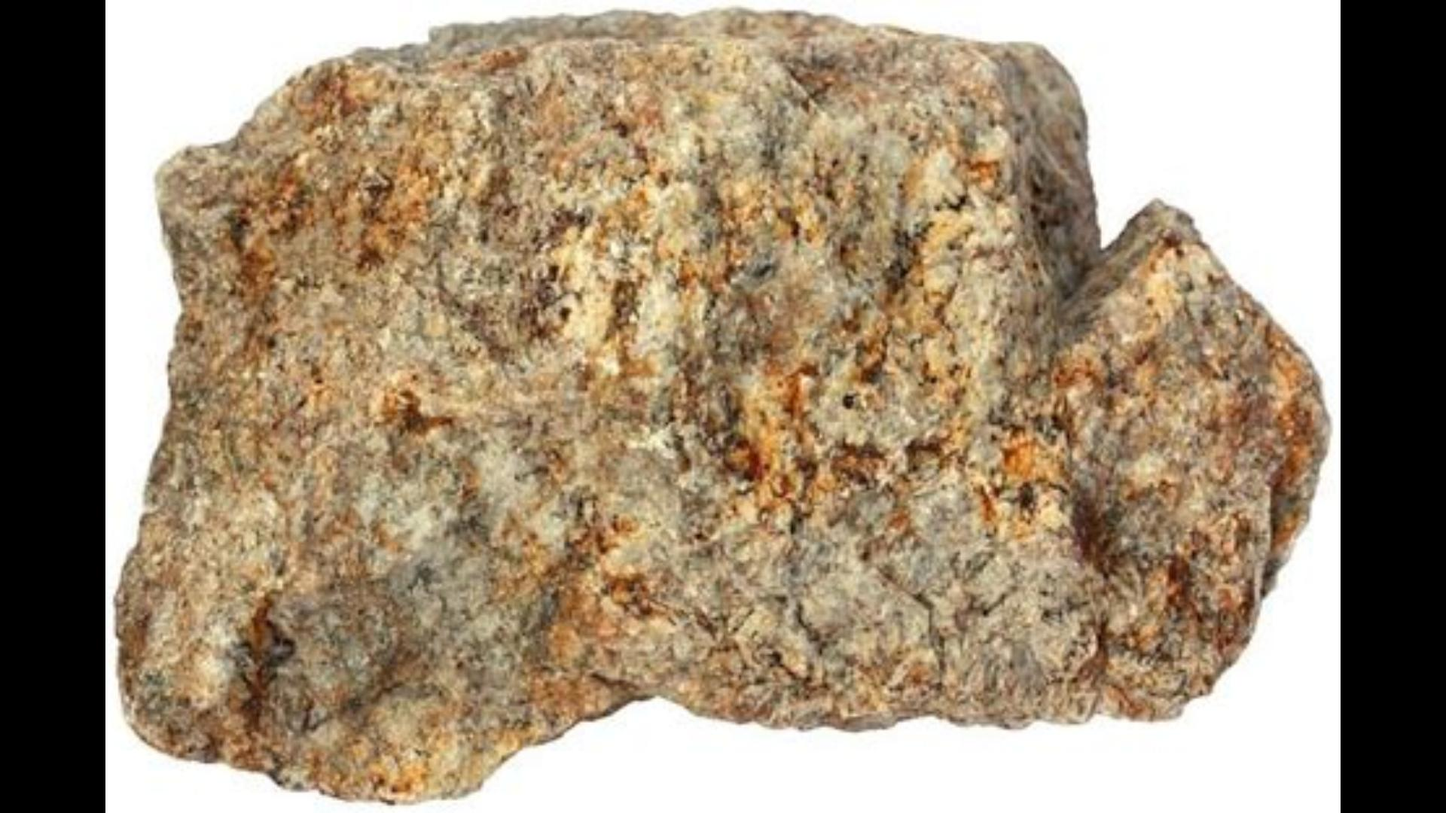rock: (116, 10, 1326, 797), (116, 10, 1318, 800)
